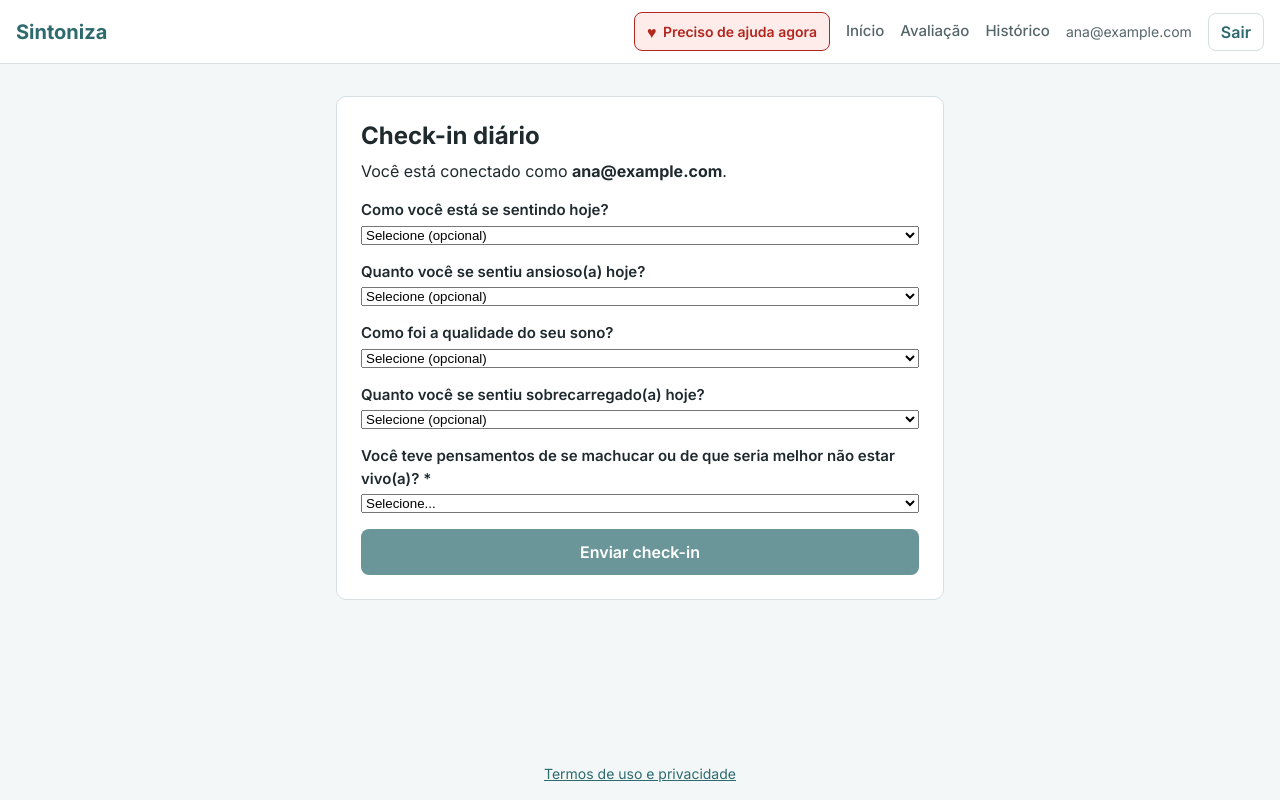
DailyCheckin sem risco (R06, R-S5) › mantém o formulário e mostra o erro quando o envio falha
Select "Bom" in the dropdown labelled "Como você está se sentindo hoje?" at [640, 235], box x1=361 y1=226 x2=919 y2=244
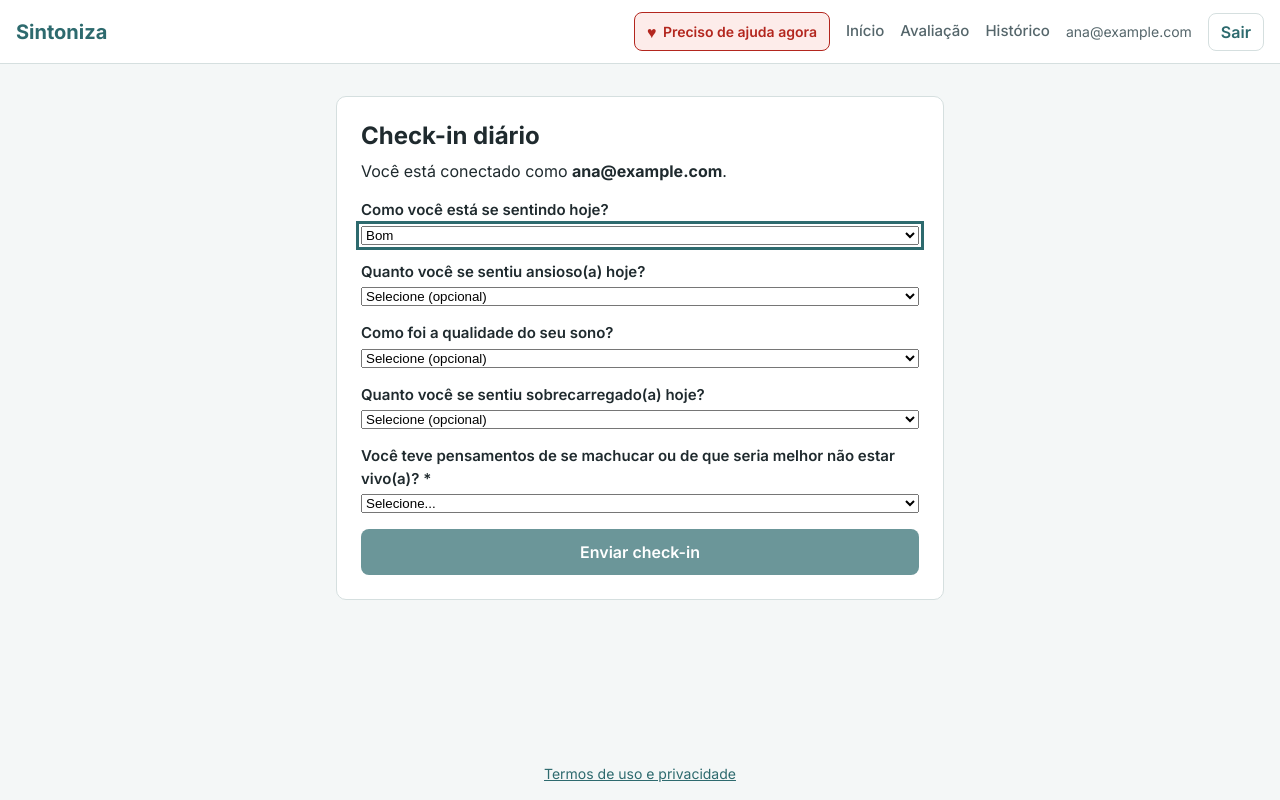
Select "Extremamente" in the dropdown labelled "Quanto você se sentiu ansioso(a) hoje?" at [640, 296], box x1=361 y1=287 x2=919 y2=306
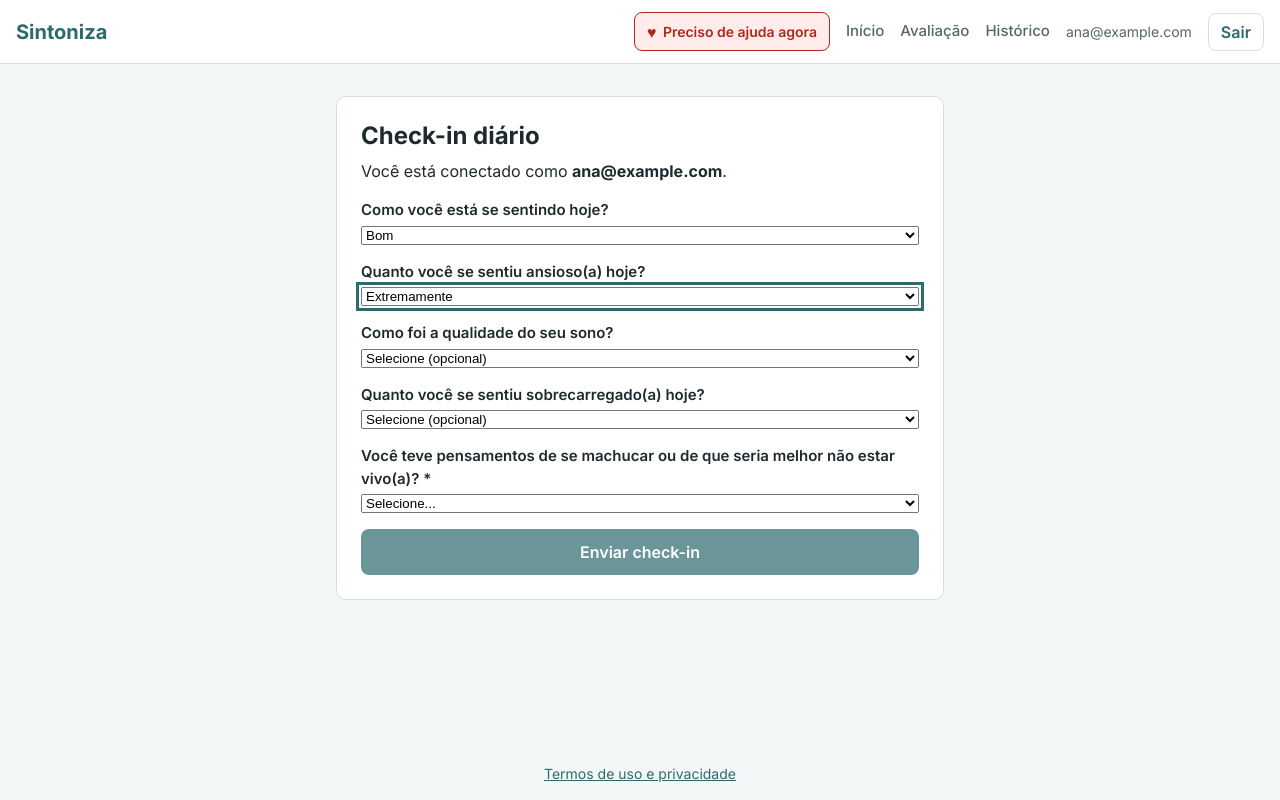
Select "Muito ruim" in the dropdown labelled "Como foi a qualidade do seu sono?" at [640, 358], box x1=361 y1=348 x2=919 y2=368
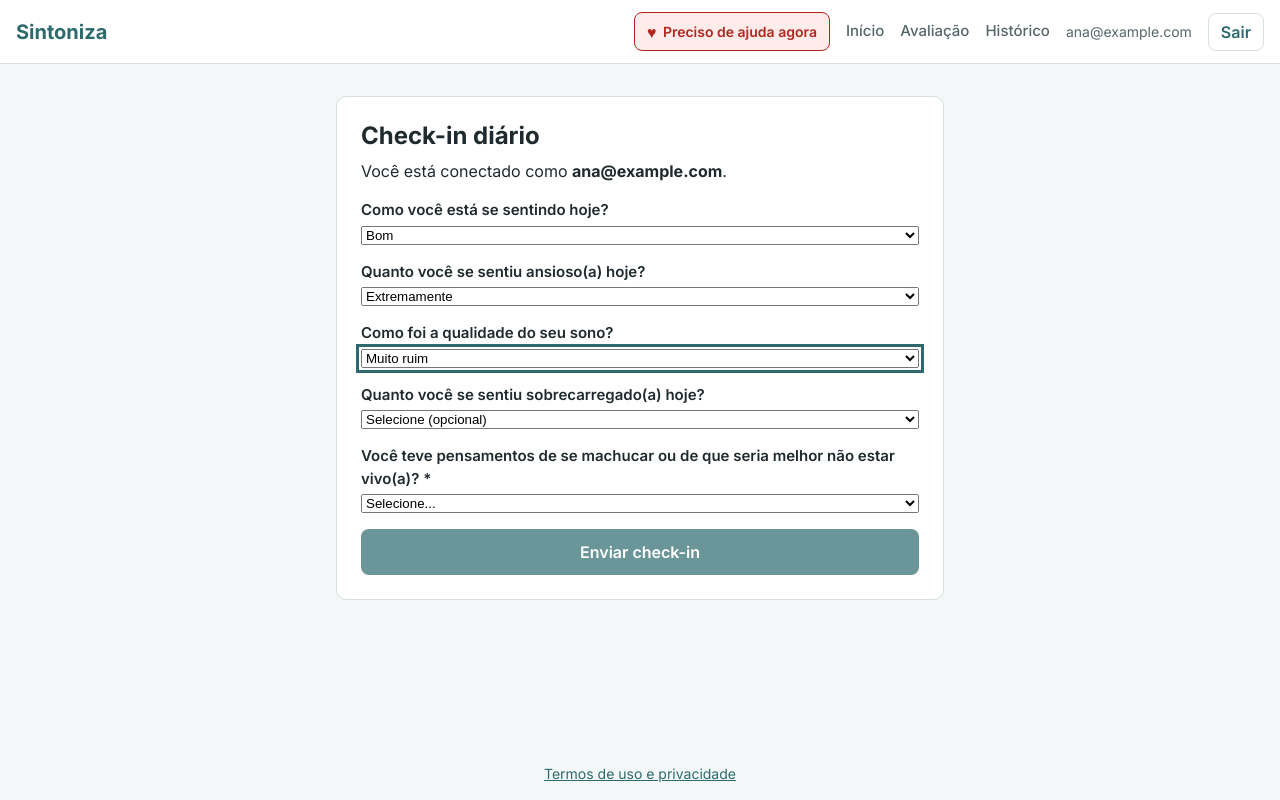
Select "Nada" in the dropdown labelled "Quanto você se sentiu sobrecarregado(a) hoje?" at [640, 420], box x1=361 y1=410 x2=919 y2=429
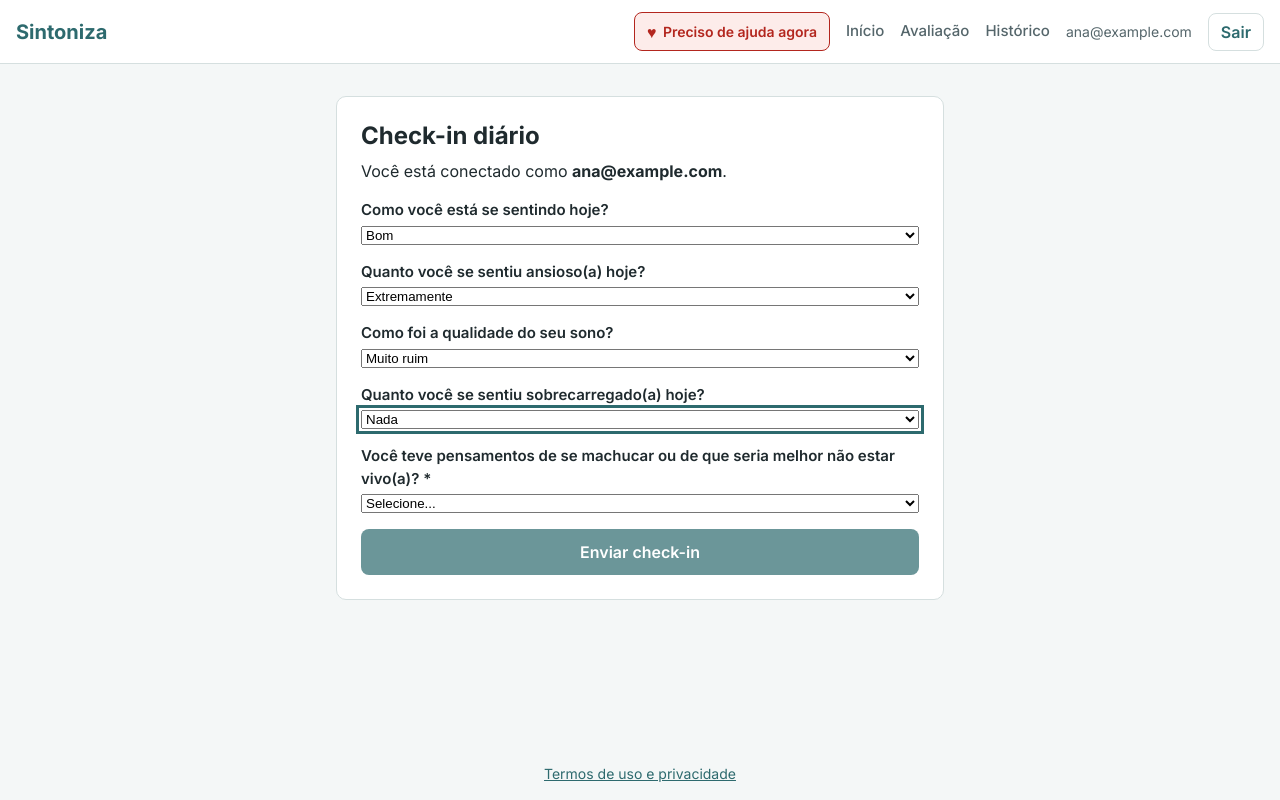
Select "Não" in the dropdown labelled "pensamentos de se machucar" at [640, 504], box x1=361 y1=494 x2=919 y2=513
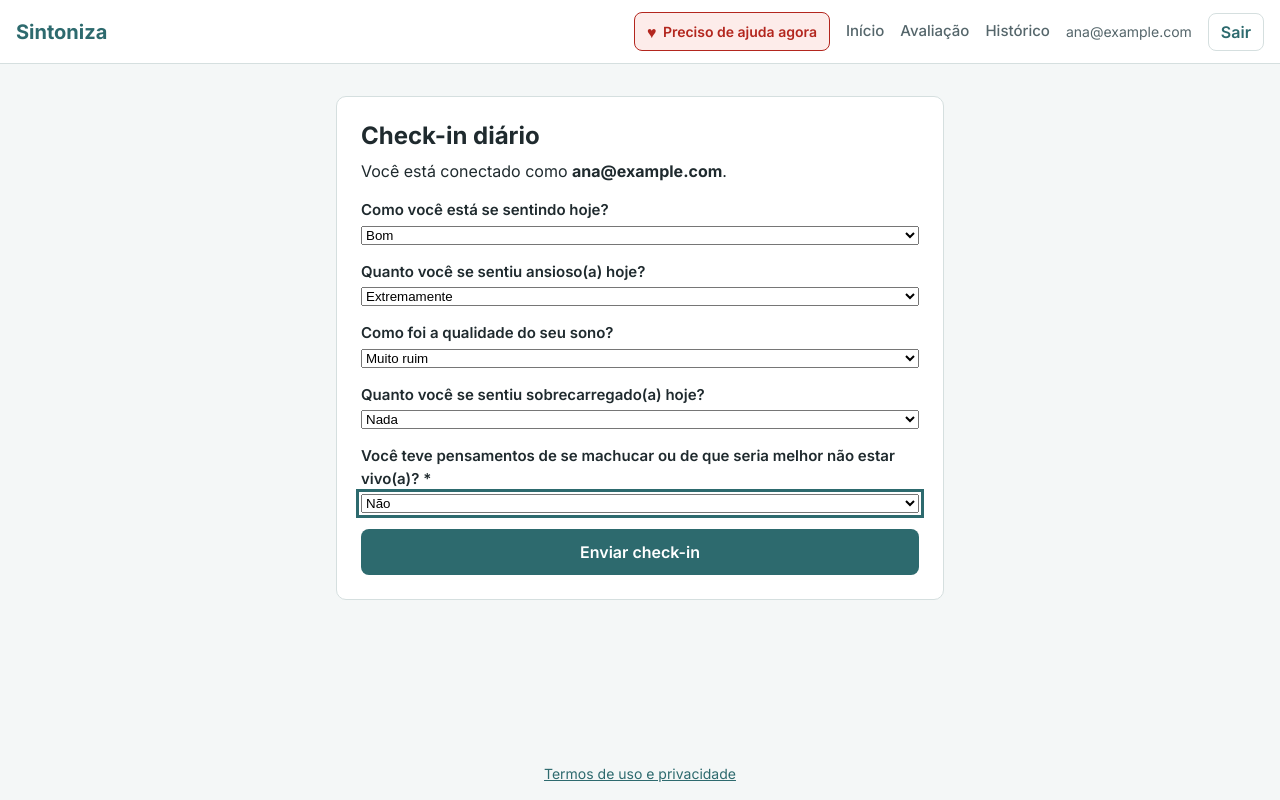
Click the button "Enviar check-in" at [640, 552], box x1=361 y1=529 x2=919 y2=575
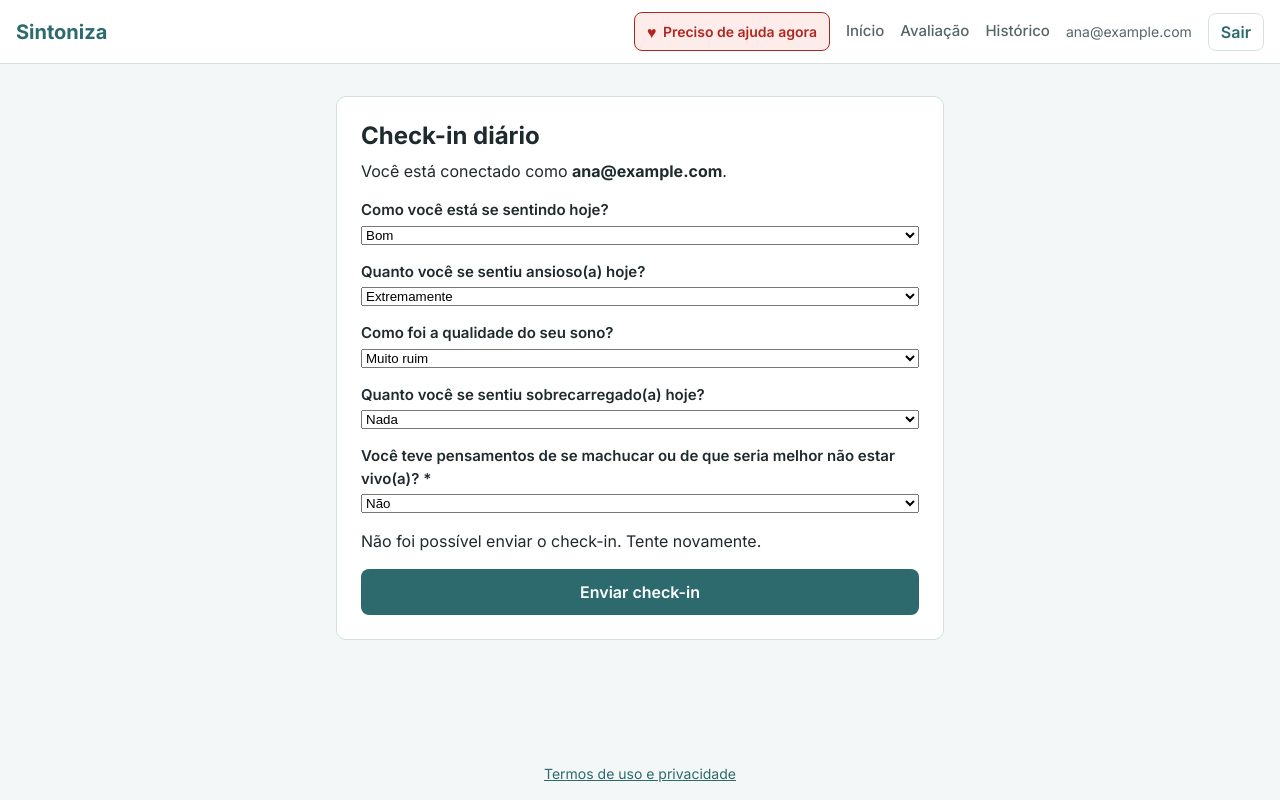
Check: the button "Enviar check-in" is enabled, box x1=361 y1=569 x2=919 y2=615
Check: the message reads "Não foi possível enviar o check-in. Tente novamente.", box x1=361 y1=531 x2=761 y2=551
